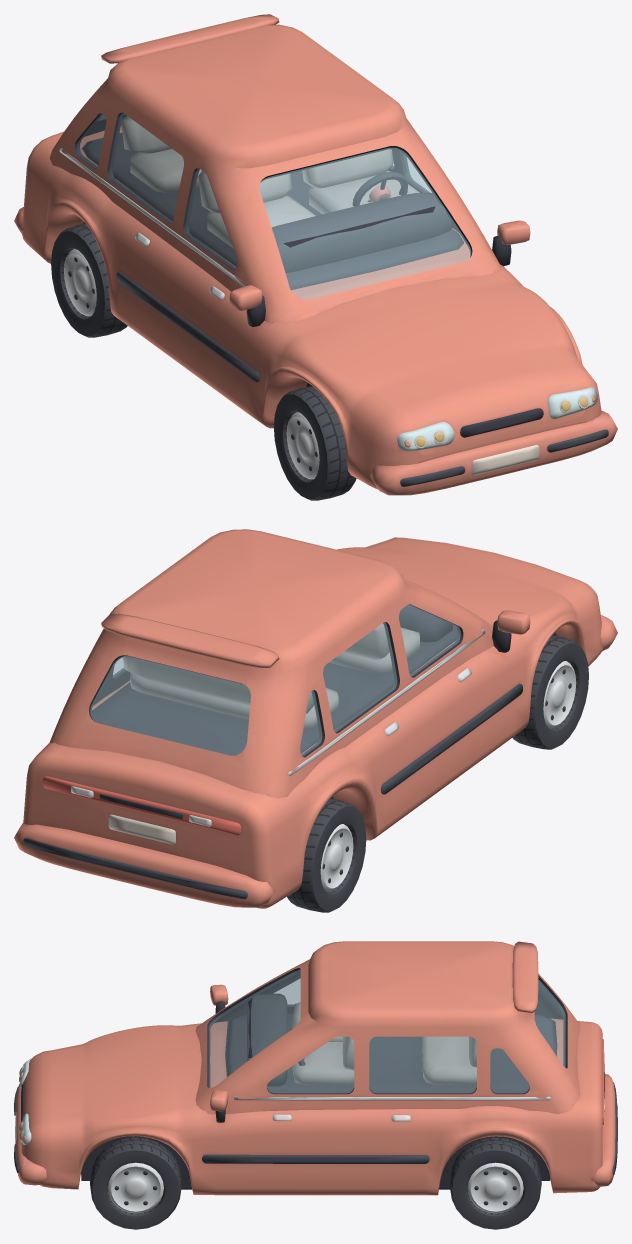
The model's file is 1990s-hatchback.glb.
3 renders of one model, top to bottom at view 1: azimuth 30°, elevation 25°; view 2: azimuth 150°, elevation 25°; view 3: azimuth 270°, elevation 25°, orthographic. The views are drawn at different scales.
Parts seen in each view (by area): view 1: 1990s-hatchback_body, 1990s-hatchback_windows, 1990s-hatchback_wheel_fr, 1990s-hatchback_wheel_rr; view 2: 1990s-hatchback_body, 1990s-hatchback_windows, 1990s-hatchback_wheel_rr, 1990s-hatchback_wheel_fr; view 3: 1990s-hatchback_body, 1990s-hatchback_windows, 1990s-hatchback_wheel_rl, 1990s-hatchback_wheel_fl.
Part boxes in pixels (box(x1,y1,x2,y2)): 1990s-hatchback_body: box(14, 14, 617, 495); 1990s-hatchback_windows: box(77, 113, 470, 299); 1990s-hatchback_wheel_fr: box(274, 386, 356, 500); 1990s-hatchback_wheel_rr: box(51, 223, 127, 337); 1990s-hatchback_body: box(14, 529, 617, 908); 1990s-hatchback_windows: box(90, 604, 460, 755); 1990s-hatchback_wheel_rr: box(287, 798, 366, 912); 1990s-hatchback_wheel_fr: box(512, 635, 588, 749); 1990s-hatchback_body: box(14, 941, 617, 1195); 1990s-hatchback_windows: box(209, 970, 565, 1092); 1990s-hatchback_wheel_rl: box(449, 1137, 541, 1229); 1990s-hatchback_wheel_fl: box(90, 1137, 181, 1229).
Size of the model in its own units: 1.86 by 1.53 by 4.06.
6 materials, 2 textured.
